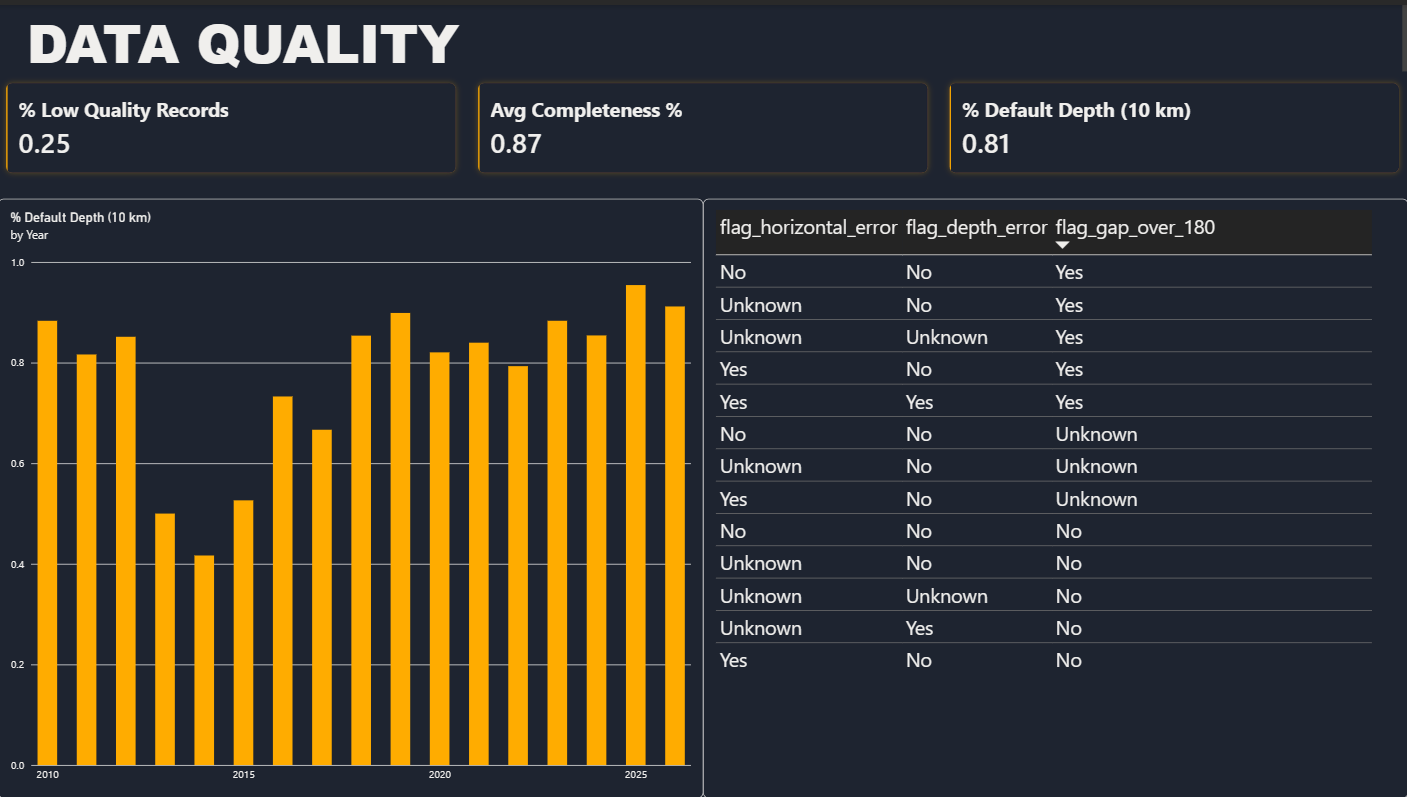

This screenshot's page, from the dashboard's own definition file:
{"tool":"powerbi","page":{"name":"Data Quality","canvas":[1920,1080],"ordinal":3},"visuals":[{"type":"textbox","box":[16,0,1904,96],"z":0},{"type":"cardVisual","fields":{"Data":["Earthquakes.% Low Quality Records","Earthquakes.Avg Completeness %","Earthquakes.% Default Depth (10 km)"]},"box":[0,96,1920,144],"z":1},{"type":"clusteredColumnChart","fields":{"Category":["Date.Date.Variation.Date Hierarchy.Year"],"Y":["Earthquakes.% Default Depth (10 km)"]},"box":[0,264,960,816],"z":2},{"type":"tableEx","fields":{"Values":["Earthquakes.flag_horizontal_error","Earthquakes.flag_depth_error","Earthquakes.flag_gap_over_180"]},"box":[960,264,960,816],"z":3}]}

Visuals, with their boxes in screenshot pixels (x1, y1, x2, y2), scaled from the page's 1920x1080 canvas onto the 1407x797 screenshot:
textbox: select_region(12, 0, 1406, 71)
cardVisual - Earthquakes.% Low Quality Records x Earthquakes.Avg Completeness %: select_region(0, 71, 1406, 177)
clusteredColumnChart - Date.Date.Variation.Date Hierarchy.Year x Earthquakes.% Default Depth (10 km): select_region(0, 195, 704, 796)
tableEx - Earthquakes.flag_horizontal_error x Earthquakes.flag_depth_error: select_region(704, 195, 1406, 796)
